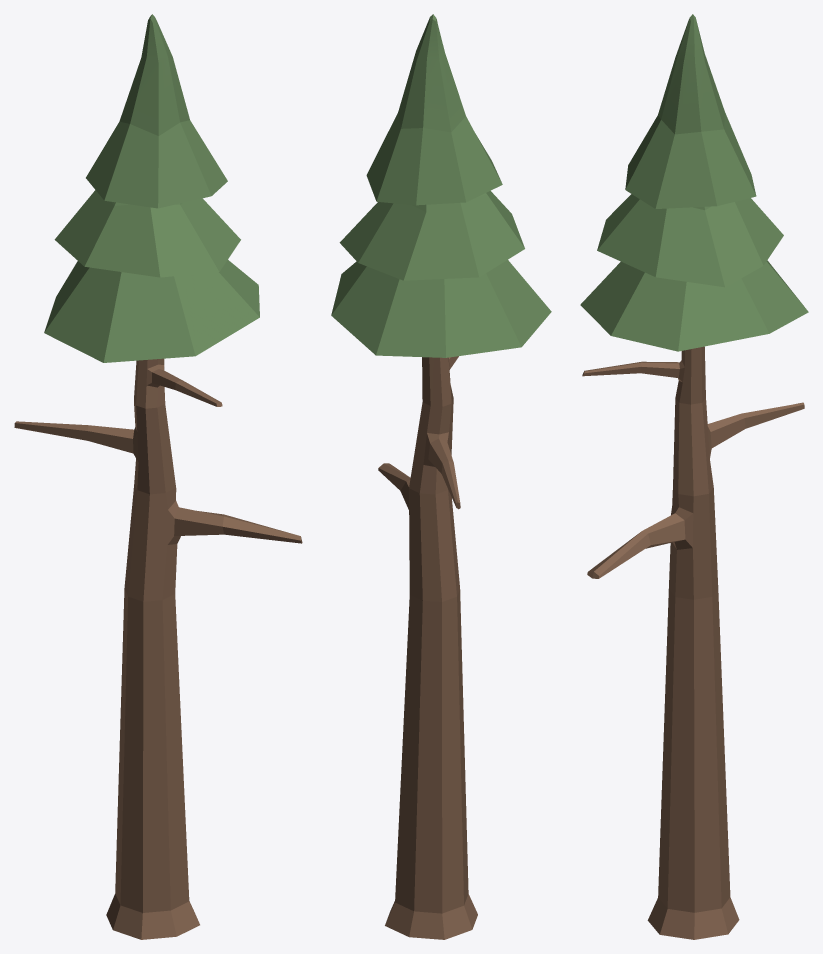
Rendered from Pine_Trees_Pack_Pine_03.005.fbx.
3 renders of one model, left to right at view 1: azimuth 30°, elevation 25°; view 2: azimuth 150°, elevation 25°; view 3: azimuth 270°, elevation 25°, orthographic.
Parts seen in each view (by area): view 1: Pine_Trees_Pack_Pine_03.005; view 2: Pine_Trees_Pack_Pine_03.005; view 3: Pine_Trees_Pack_Pine_03.005.
Part boxes in pixels (box(x1,y1,x2,y2)): Pine_Trees_Pack_Pine_03.005: box(14, 14, 302, 939); Pine_Trees_Pack_Pine_03.005: box(331, 14, 551, 939); Pine_Trees_Pack_Pine_03.005: box(580, 14, 808, 939).
Size of the model in its own units: 145 by 628 by 144.
